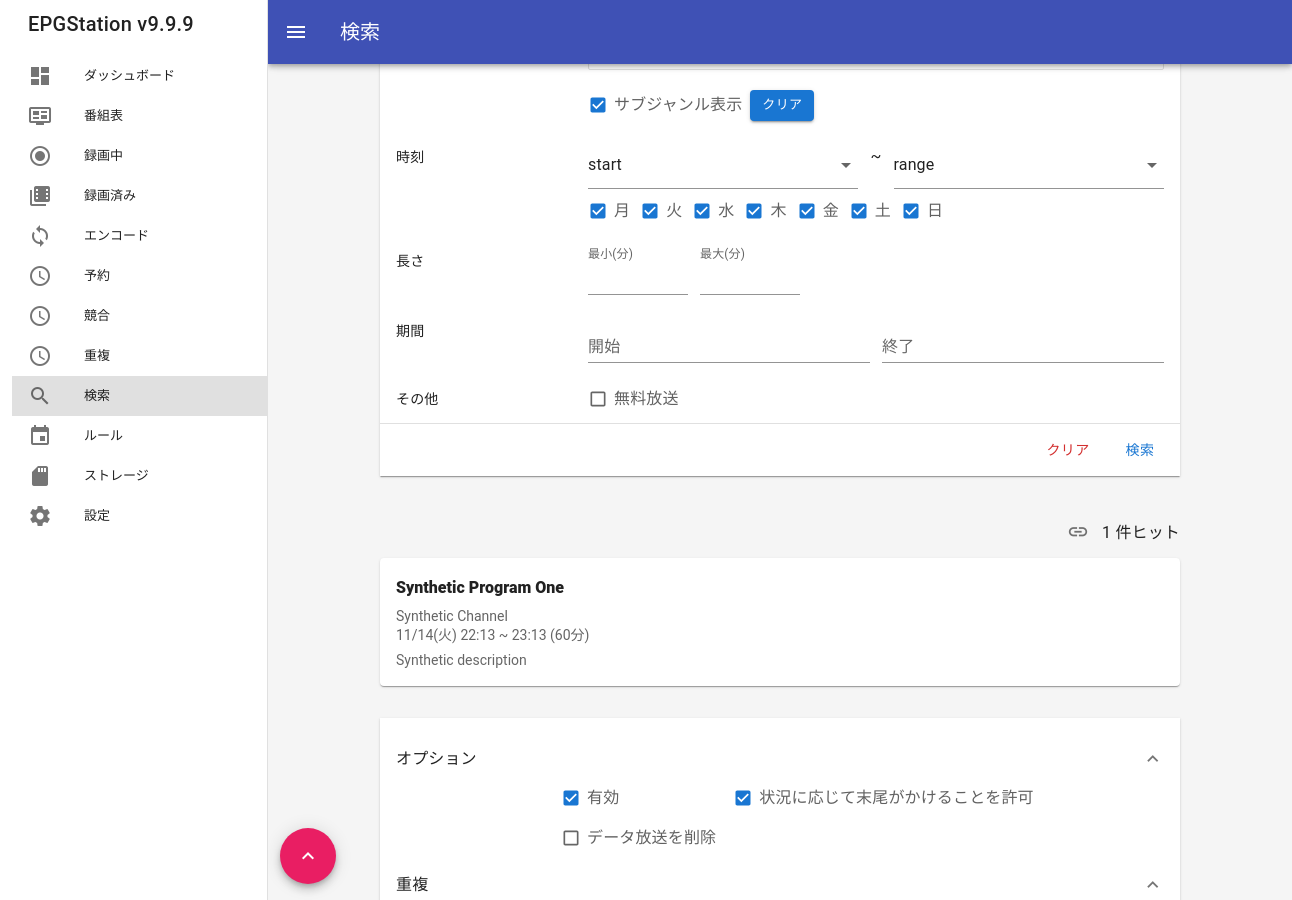
Scenario: Search route lifecycle › [AC 2.32] clears the search form and hides prior results when クリア is pressed
(page scrolled)
Expected: the text "1 件ヒット" is shown, [1102, 521, 1180, 545]
What coordinates should you click on to do the following:
click the 2nd button "クリア"
I would click on:
 (1068, 450)
Its box is [1036, 432, 1100, 468].
(page scrolled)
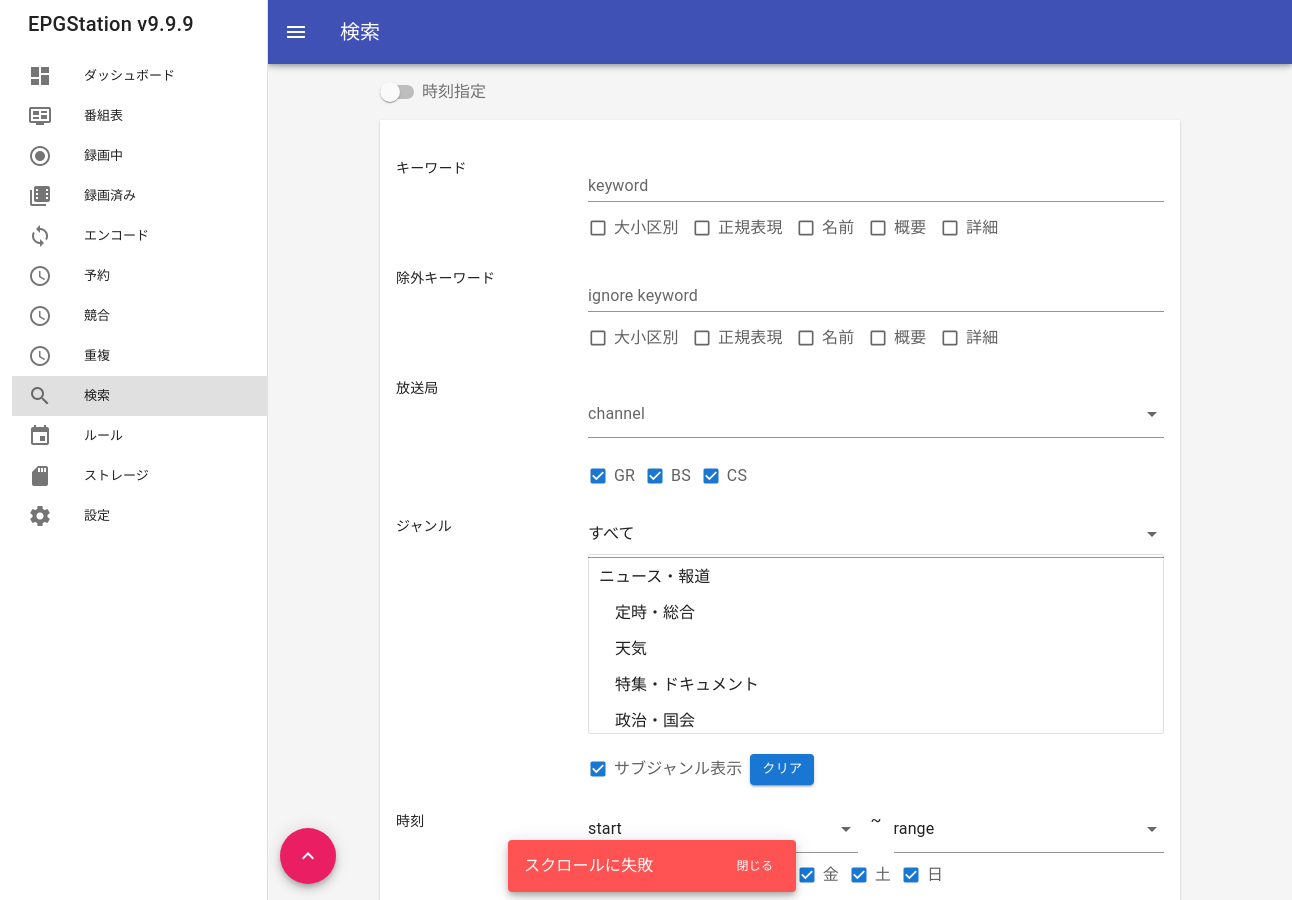
Result: the field labelled "keyword" is empty at [588, 170, 1164, 202]
Result: the text "1 件ヒット" is gone
